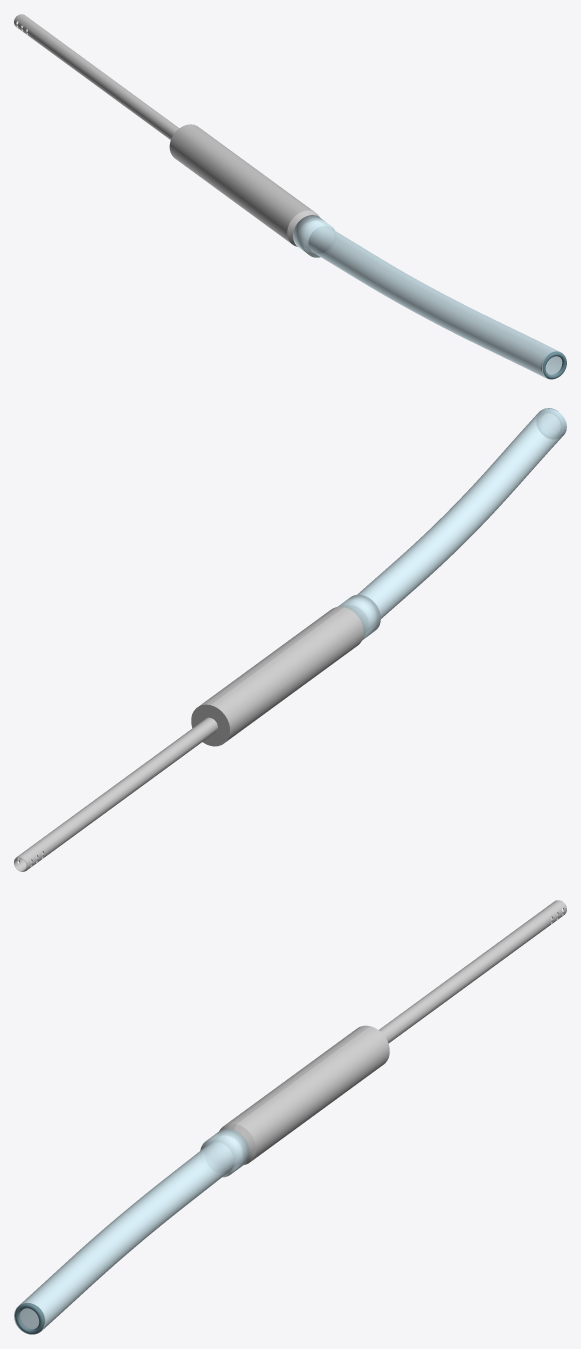
File: cannula_with_short_tube.fbx
The picture shows the model from 3 angles, top to bottom: view 1: azimuth 30°, elevation 25°; view 2: azimuth 150°, elevation 25°; view 3: azimuth 330°, elevation 25°; orthographic projection. The views are drawn at different scales.
Visible parts, largest first — view 1: short_flexible_tube_from_cannula, empty_3, empty_2, short_tube_connector_collar_on_cannula; view 2: short_flexible_tube_from_cannula, empty_3, empty_2, short_tube_connector_collar_on_cannula; view 3: short_flexible_tube_from_cannula, empty_3, empty_2, short_tube_connector_collar_on_cannula.
Boxes of the visible parts, x1=… form: short_flexible_tube_from_cannula: x1=300, y1=221, x2=562, y2=379; empty_3: x1=169, y1=124, x2=319, y2=246; empty_2: x1=14, y1=14, x2=179, y2=139; short_tube_connector_collar_on_cannula: x1=293, y1=215, x2=334, y2=257; short_flexible_tube_from_cannula: x1=344, y1=408, x2=566, y2=633; empty_3: x1=191, y1=606, x2=363, y2=746; empty_2: x1=14, y1=717, x2=217, y2=871; short_tube_connector_collar_on_cannula: x1=337, y1=594, x2=380, y2=640; short_flexible_tube_from_cannula: x1=14, y1=1136, x2=241, y2=1334; empty_3: x1=219, y1=1025, x2=389, y2=1164; empty_2: x1=379, y1=900, x2=566, y2=1043; short_tube_connector_collar_on_cannula: x1=200, y1=1129, x2=249, y2=1177.
Size of the model in its own units: 0.0298 by 0.0199 by 0.4051.
